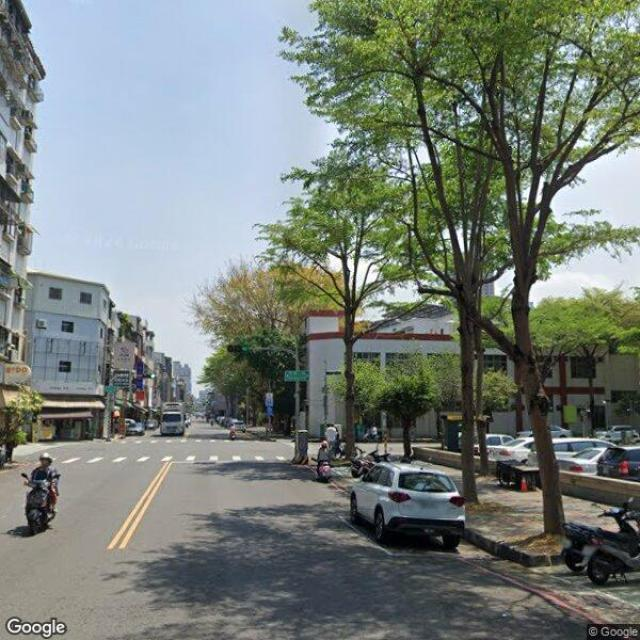Legalparking: (350, 453, 464, 547), (552, 437, 639, 481), (489, 437, 537, 467)
illegalparking: (23, 467, 59, 533), (157, 403, 187, 437), (314, 462, 330, 481)
